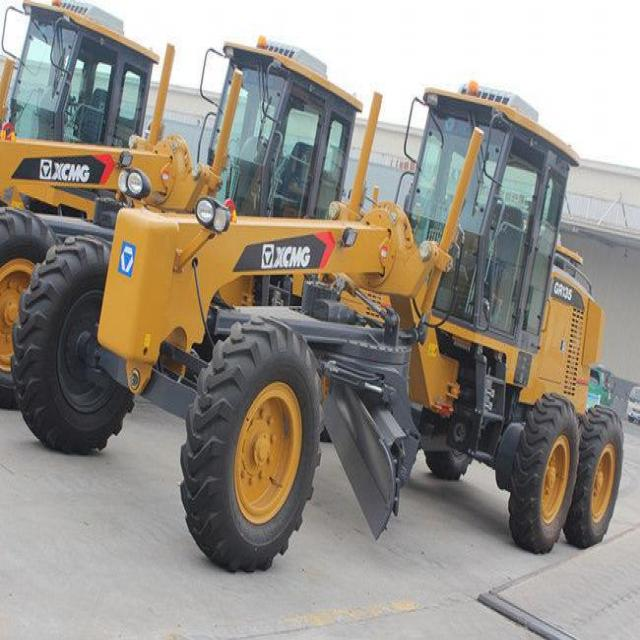Grader: (24, 34, 632, 587)
